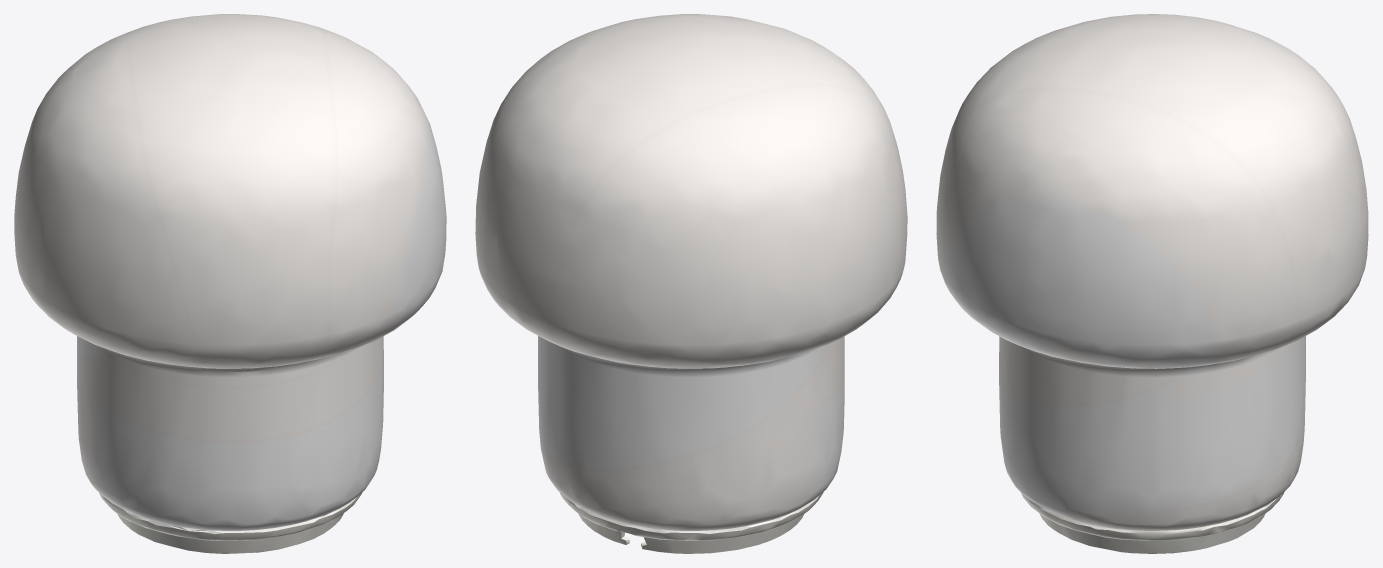
The model's file is TOKABO table lamp.glb.
3 renders of one model, left to right at view 1: azimuth 30°, elevation 25°; view 2: azimuth 150°, elevation 25°; view 3: azimuth 270°, elevation 25°, orthographic.
Parts seen in each view (by area): view 1: ProcessedMeshNode; view 2: ProcessedMeshNode; view 3: ProcessedMeshNode.
Part boxes in pixels (x1,y1,x2,y2): ProcessedMeshNode: [14, 14, 446, 553]; ProcessedMeshNode: [475, 14, 907, 553]; ProcessedMeshNode: [936, 14, 1368, 553].
Bounding box in the file's own units: 0.1255 × 0.1472 × 0.1255.
Materials: 1 (1 with a texture image).
